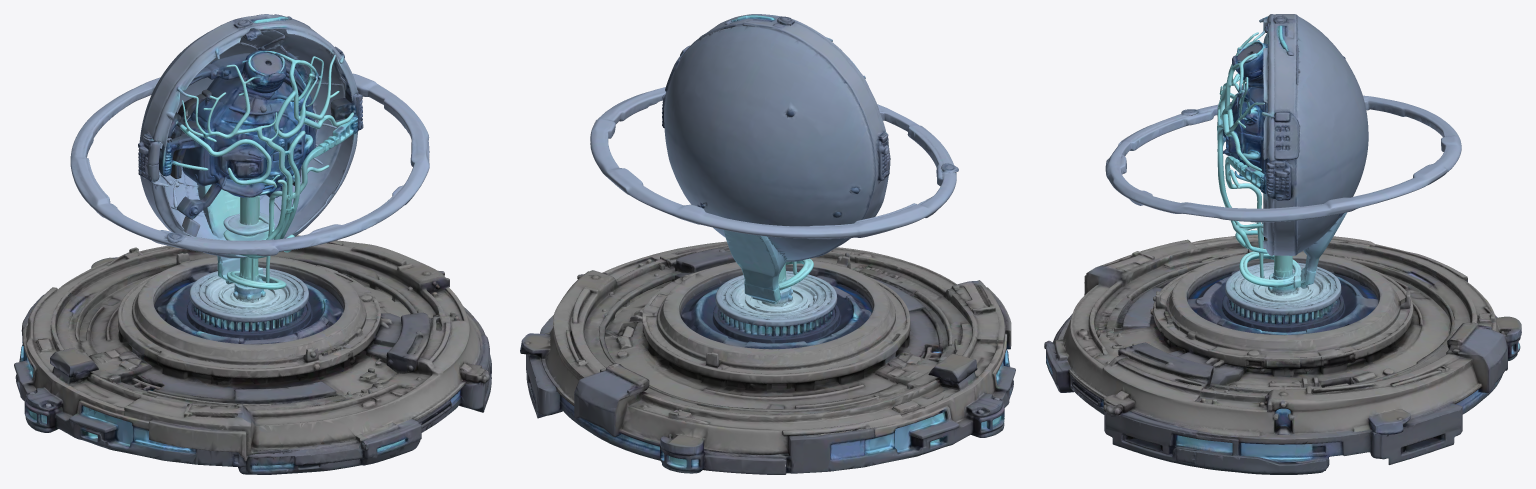
The model's file is ai-core.glb.
3 renders of one model, left to right at view 1: azimuth 30°, elevation 25°; view 2: azimuth 150°, elevation 25°; view 3: azimuth 270°, elevation 25°, orthographic. The views are drawn at different scales.
Visible parts, largest first — view 1: tripo_node_17d95308-6a55-4fc3-9606-e3a9614abee5; view 2: tripo_node_17d95308-6a55-4fc3-9606-e3a9614abee5; view 3: tripo_node_17d95308-6a55-4fc3-9606-e3a9614abee5.
Part boxes in pixels (x1,y1,x2,y2): tripo_node_17d95308-6a55-4fc3-9606-e3a9614abee5: [14, 14, 491, 474]; tripo_node_17d95308-6a55-4fc3-9606-e3a9614abee5: [520, 14, 1015, 474]; tripo_node_17d95308-6a55-4fc3-9606-e3a9614abee5: [1044, 14, 1521, 474].
Bounding box in the file's own units: 0.9787 × 0.7912 × 0.965.
Materials: 1 (1 with a texture image).
